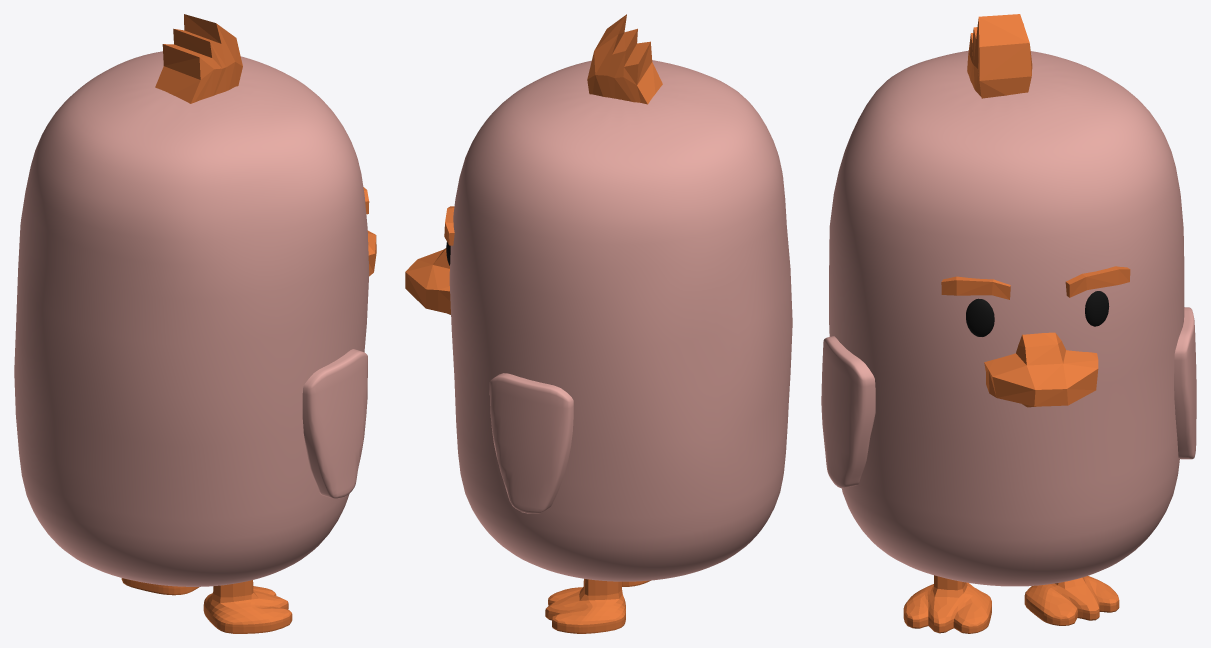
File: ducks3.fbx
3 renders of one model, left to right at view 1: azimuth 30°, elevation 25°; view 2: azimuth 150°, elevation 25°; view 3: azimuth 270°, elevation 25°, orthographic. The views are drawn at different scales.
Parts seen in each view (by area): view 1: Cylinder.006, Cylinder.007, Cube.010, Plane.004; view 2: Cylinder.006, Cylinder.007, Cube.010, Plane.004, Cube.009; view 3: Cylinder.006, Cylinder.007, Plane.004, Cube.009, Cube.010, Cube.011, Icosphere.003.
Part boxes in pixels (x1,y1,x2,y2): Cylinder.006: (14,51,369,586); Cylinder.007: (302,349,367,498); Cube.010: (155,14,242,103); Plane.004: (121,578,292,633); Cylinder.006: (449,60,792,581); Cylinder.007: (489,373,573,513); Cube.010: (587,14,662,104); Plane.004: (545,579,651,633); Cube.009: (405,248,450,314); Cylinder.006: (829,50,1184,586); Cylinder.007: (821,307,1196,488); Plane.004: (903,575,1119,633); Cube.009: (984,332,1098,407); Cube.010: (967,14,1032,98); Cube.011: (941,266,1130,299); Icosphere.003: (966,291,1109,336).
Size of the model in its own units: 22.96 by 36.62 by 21.05.
